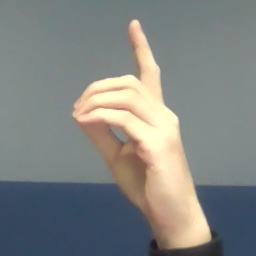D: (69, 17, 200, 209)
